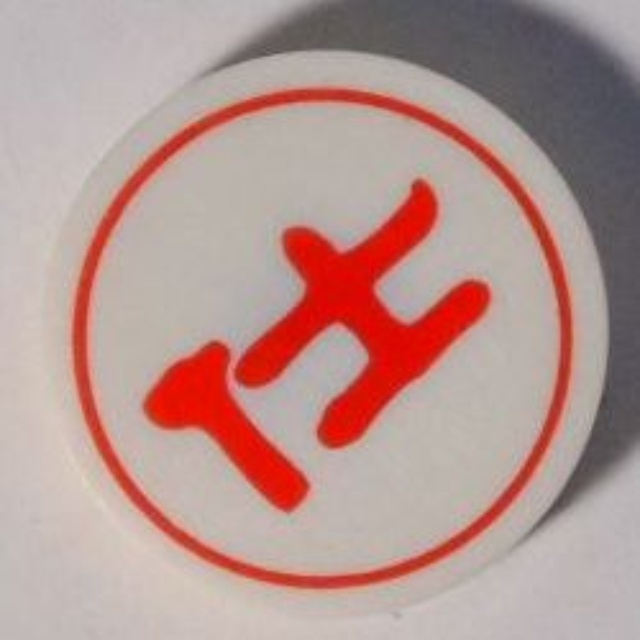red_si: (24, 43, 624, 611)
